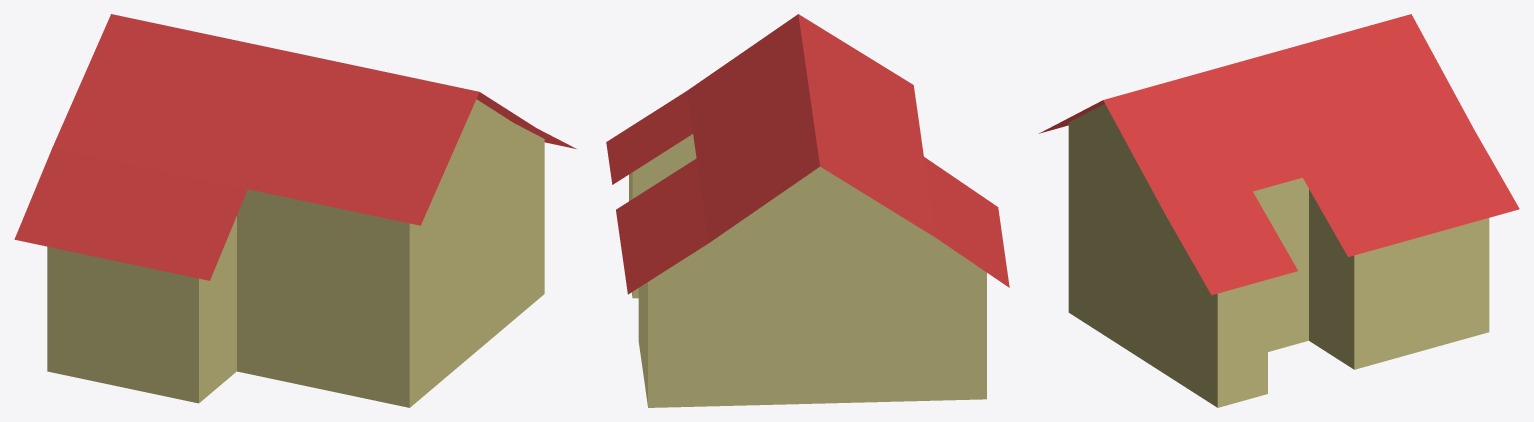
3 renders of one model, left to right at view 1: azimuth 30°, elevation 25°; view 2: azimuth 150°, elevation 25°; view 3: azimuth 270°, elevation 25°, orthographic. The views are drawn at different scales.
Bounding box in the file's own units: 24.1 × 21.92 × 12.62.
